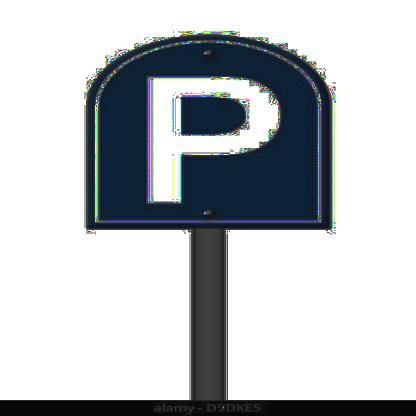Parking: (81, 35, 343, 234)
